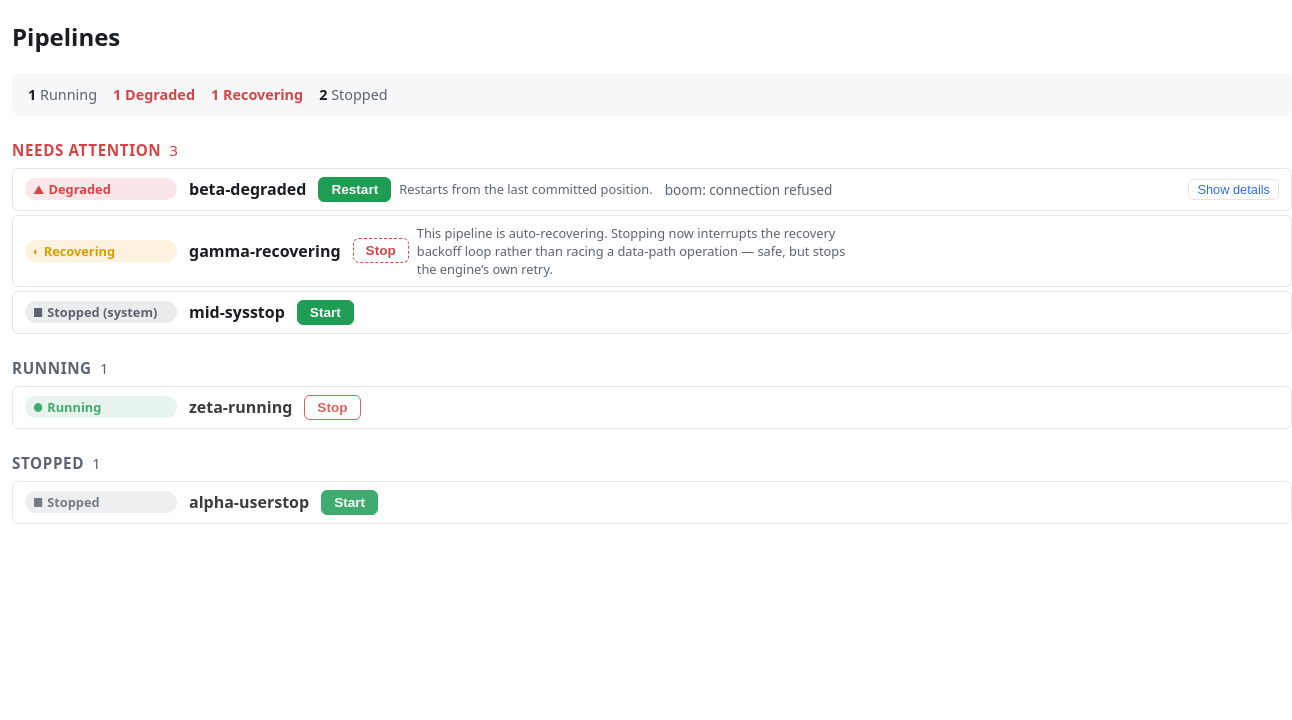
Test: FleetContent — health-first layout › AC3: a degraded pipeline exposes its FULL error string in <=2 interactions (render + one expand)
Expected: the text "boom: connection refused" is shown, [665,180,832,199]
Expected: the text "at write()" is not shown
// one click reveals the full, untruncated message
Click the button "Show details" at [1234, 189], box [1188,179,1279,200]
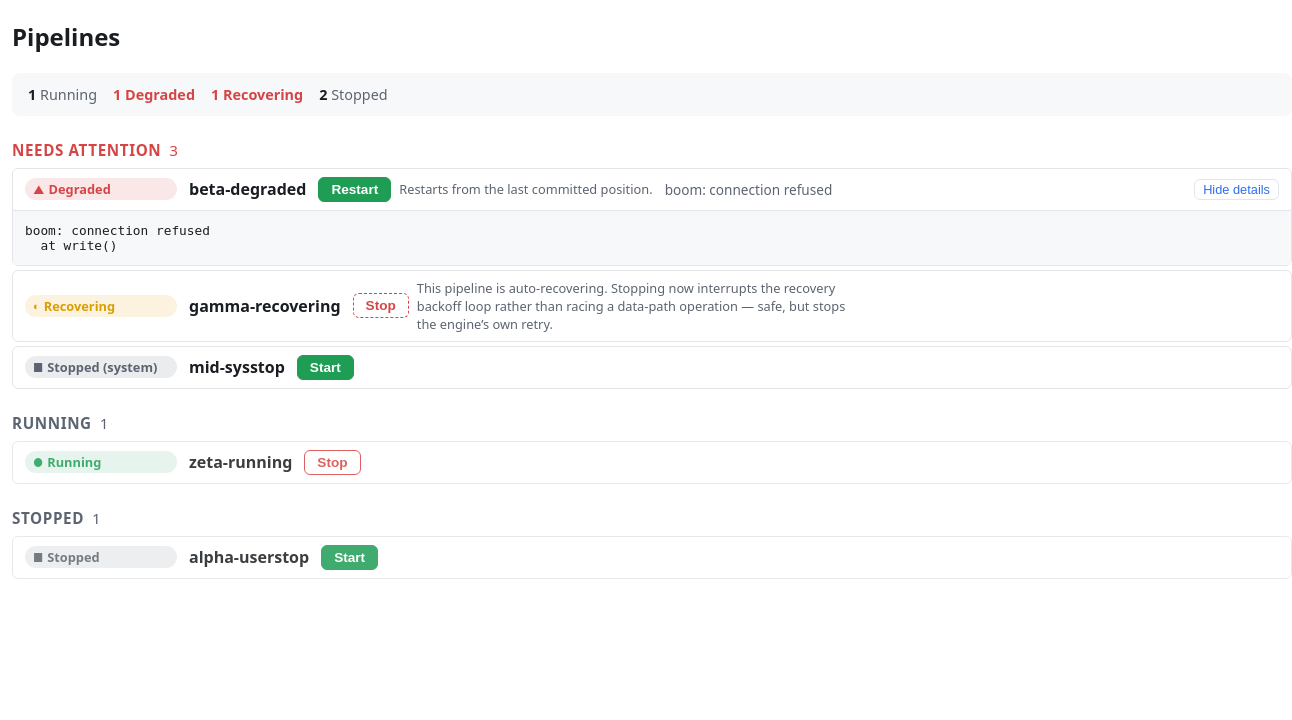
Result: the text "boom: connection refused at write()" is shown at [13,210,1291,265]
